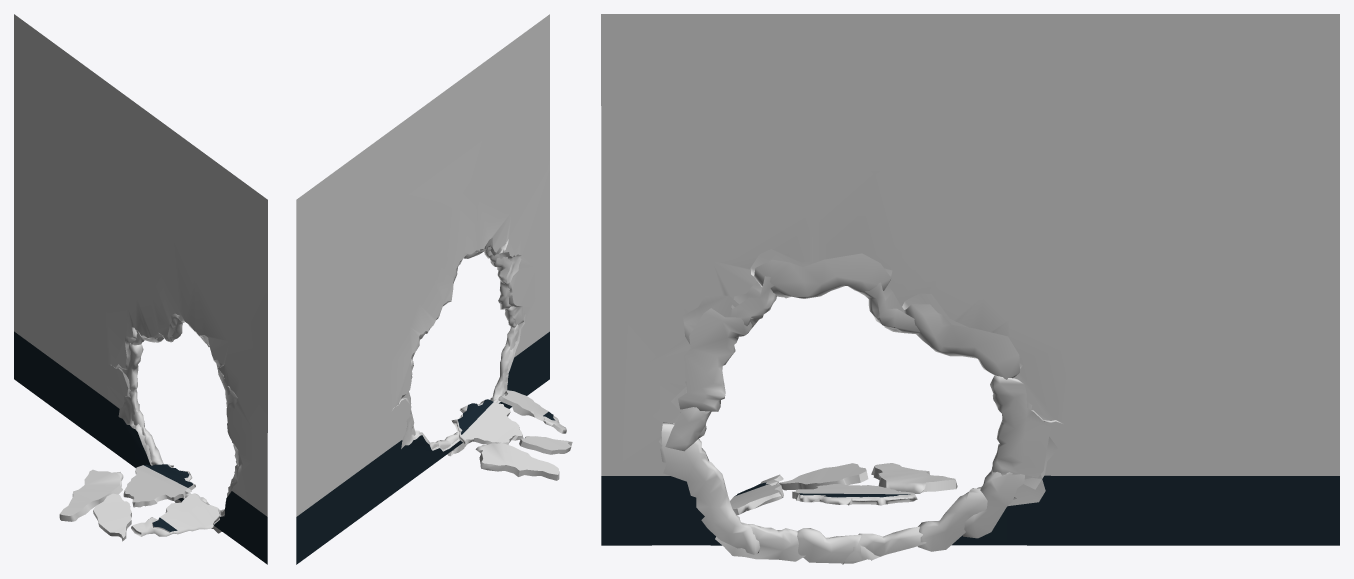
Rendered from SM_H_Building_Tide_Corridor_05J_ATLAS.fbx.
3 renders of one model, left to right at view 1: azimuth 30°, elevation 25°; view 2: azimuth 150°, elevation 25°; view 3: azimuth 270°, elevation 25°, orthographic. The views are drawn at different scales.
Parts seen in each view (by area): view 1: SM_H_Building_Tide_Corridor_05J_ATLAS; view 2: SM_H_Building_Tide_Corridor_05J_ATLAS; view 3: SM_H_Building_Tide_Corridor_05J_ATLAS.
Part boxes in pixels (x1=…): SM_H_Building_Tide_Corridor_05J_ATLAS: x1=14, y1=14, x2=267, y2=564; SM_H_Building_Tide_Corridor_05J_ATLAS: x1=296, y1=14, x2=572, y2=564; SM_H_Building_Tide_Corridor_05J_ATLAS: x1=601, y1=14, x2=1339, y2=564.
Bounding box in the file's own units: 380 × 1391 × 1132.
